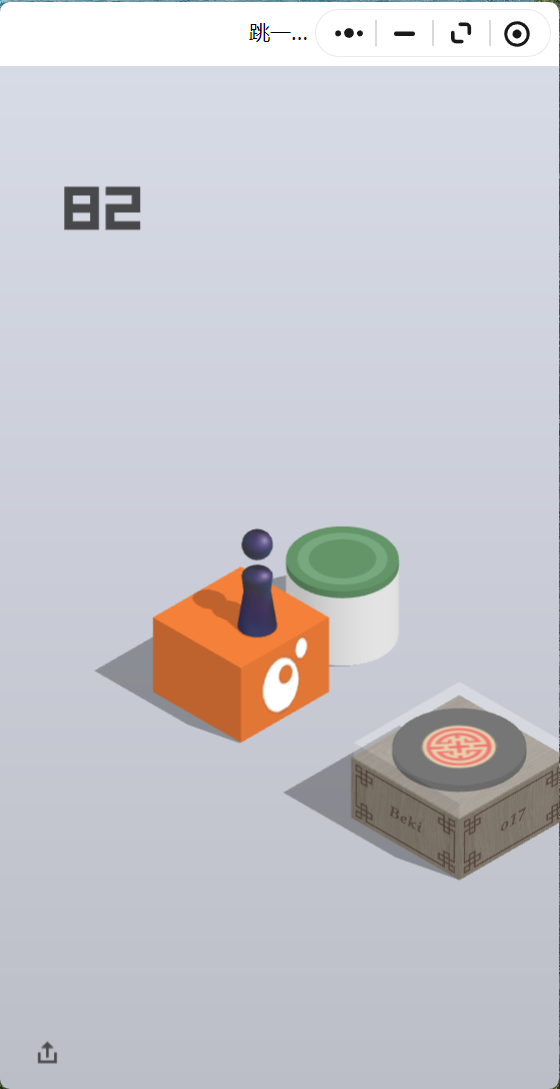piece: (242, 529, 272, 634)
target: (285, 526, 399, 591)
